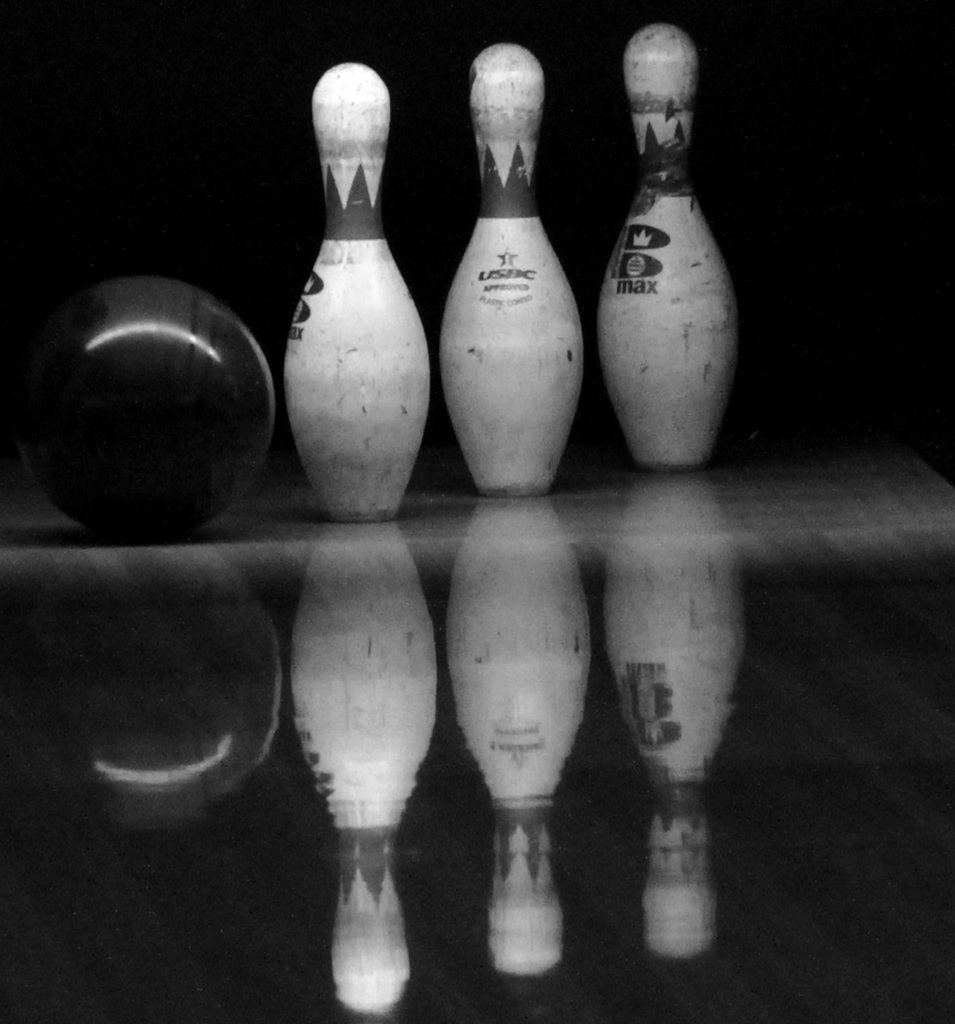Ball: (16, 275, 277, 539)
